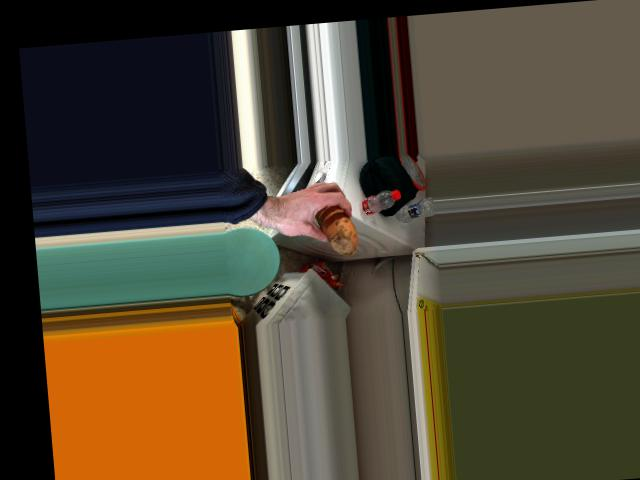sweet_potato: (315, 204, 358, 247)
